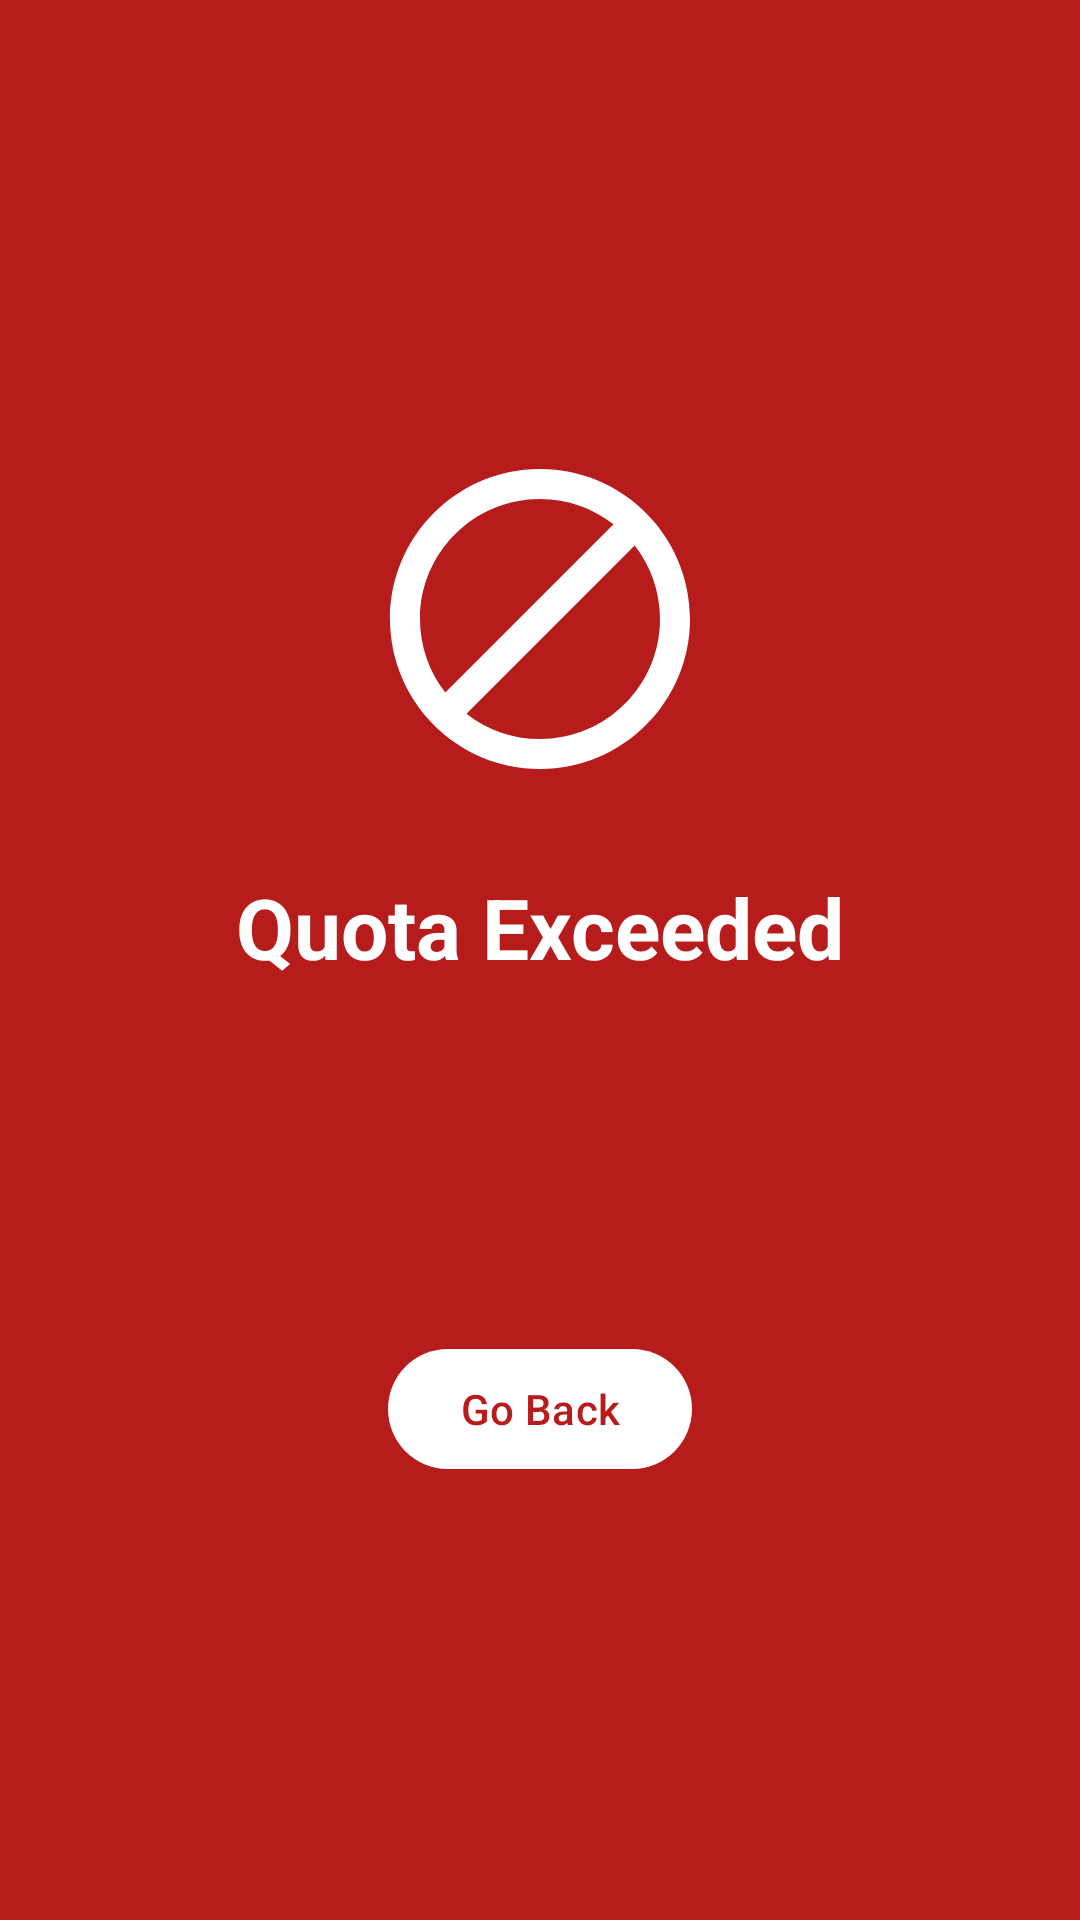

Icons on this 1080 x 1920 Android screen, each with the point to tap as point (x, y):
block: point (540, 619)
